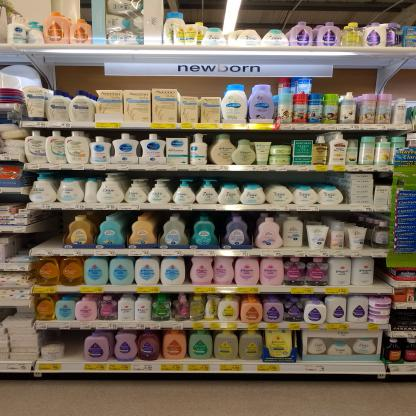Void: (230, 173, 334, 184), (38, 212, 62, 251), (70, 332, 84, 358), (45, 331, 66, 344), (19, 236, 29, 258), (376, 259, 385, 283)
